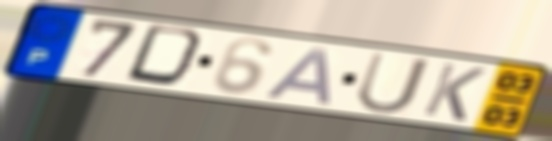6: (209, 36, 275, 98)
7: (81, 16, 142, 80)
A: (260, 45, 335, 107)
D: (121, 22, 213, 90)
K: (418, 61, 490, 124)
U: (352, 50, 434, 116)
